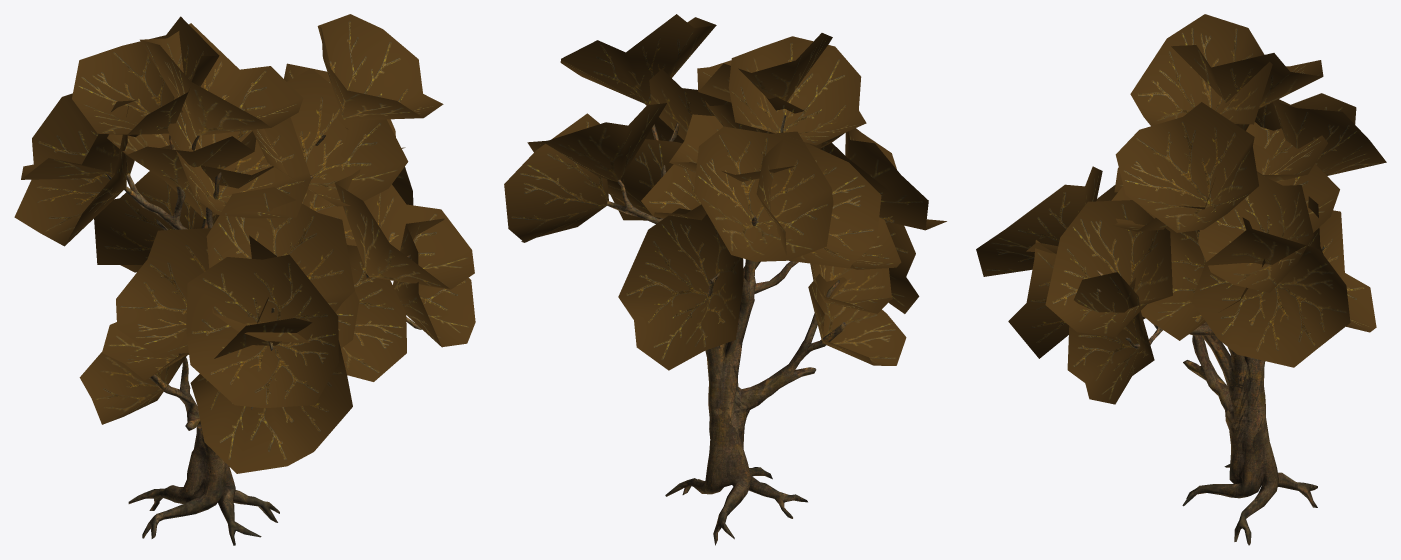
The model's file is static.glb.
3 views of the same model, side by side, from view 1: azimuth 30°, elevation 25°; view 2: azimuth 150°, elevation 25°; view 3: azimuth 270°, elevation 25° (orthographic). The views are drawn at different scales.
Parts seen in each view (by area): view 1: branches, tree3; view 2: branches, tree3; view 3: branches, tree3.
Part boxes in pixels (x1,y1,x2,y2): branches: (14, 14, 475, 473); tree3: (106, 135, 421, 545); branches: (504, 14, 946, 370); tree3: (606, 115, 846, 545); branches: (976, 14, 1386, 404); tree3: (1097, 230, 1324, 545).
Size of the model in its own units: 5.74 by 7.88 by 6.23.
Materials: 2 (2 with a texture image).
